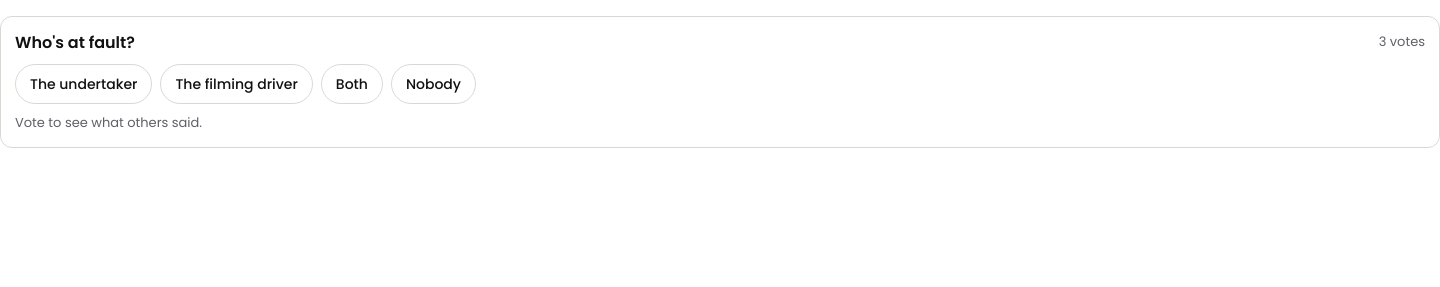
it: VotePanel › hides the results until you vote, then shows them with your answer
Check: the heading "Who's at fault?" is shown, box [15,31,135,54]
Check: the text "75%" is not shown
Click the button "The undertaker".
click(84, 84)  # box [15,64,152,104]
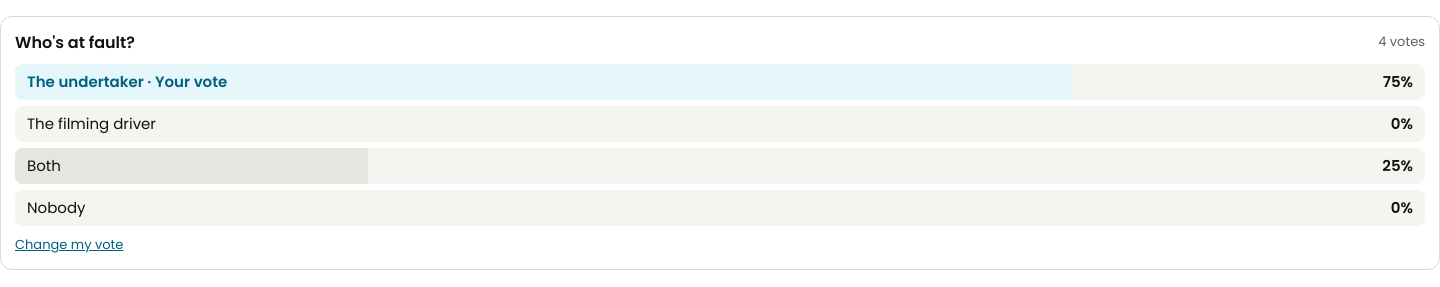
Check: the text "75%" is shown, box [1383,71,1413,93]
Check: the text "25%" is shown, box [1382,155,1413,177]
Check: the text "· Your vote" is shown, box [144,71,227,92]
